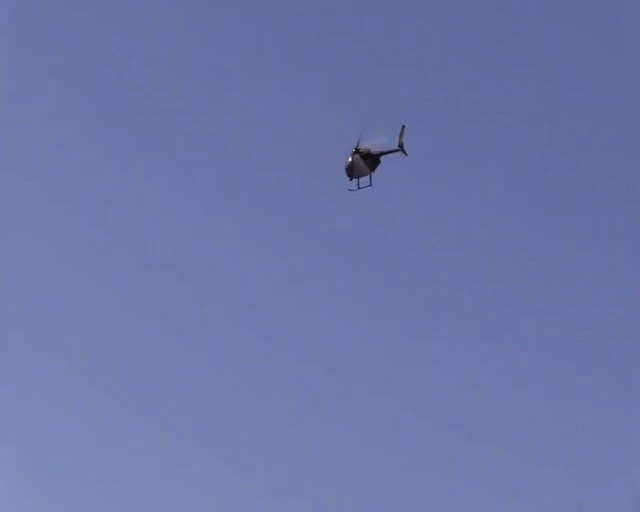HELICOPTER: (342, 123, 410, 192)
